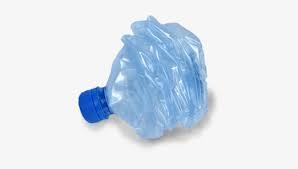plastic: (77, 17, 210, 143)
